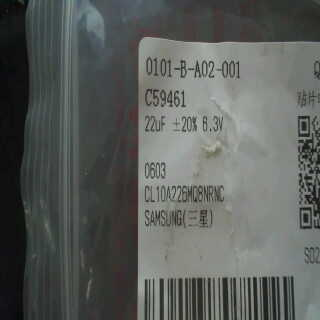22uF: (142, 113, 167, 136)
